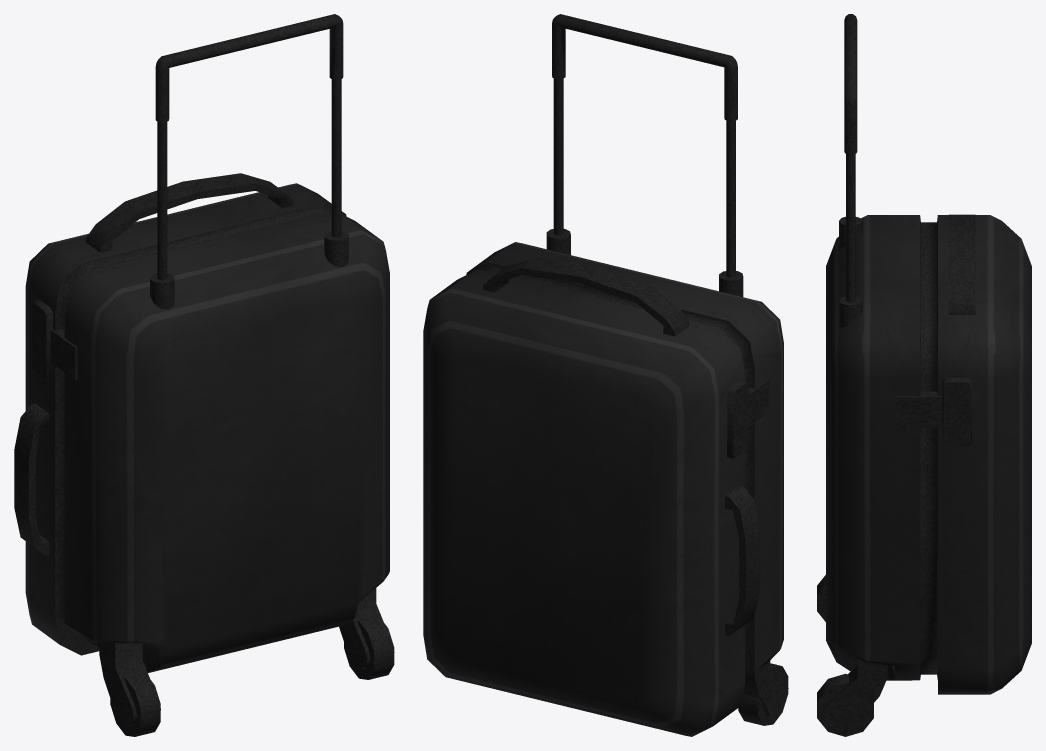
File: suitcase_12.fbx
3 renders of one model, left to right at view 1: azimuth 30°, elevation 25°; view 2: azimuth 150°, elevation 25°; view 3: azimuth 270°, elevation 25°, orthographic. The views are drawn at different scales.
Parts seen in each view (by area): view 1: suitcase_12; view 2: suitcase_12; view 3: suitcase_12.
Boxes of the visible parts, left/top/right/bottom form: suitcase_12: left=14, top=14, right=394, bottom=736; suitcase_12: left=423, top=14, right=788, bottom=736; suitcase_12: left=817, top=14, right=1031, bottom=736.
Size of the model in its own units: 0.7382 by 1.46 by 0.4539.
